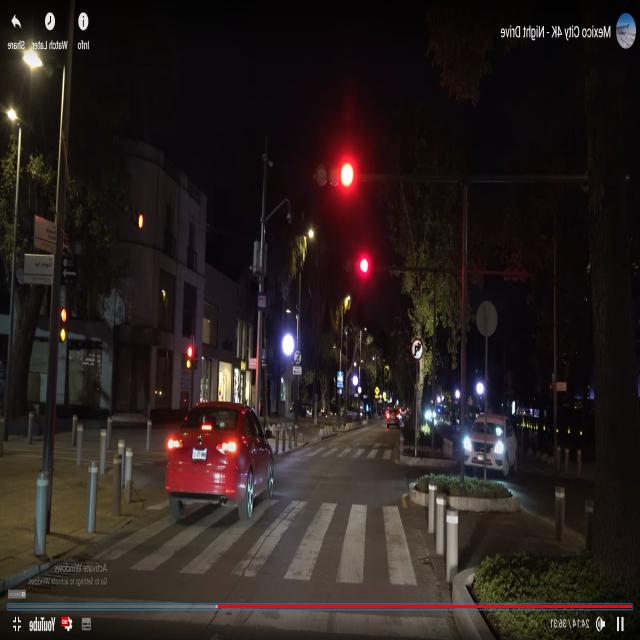headlights: (458, 434, 507, 464)
